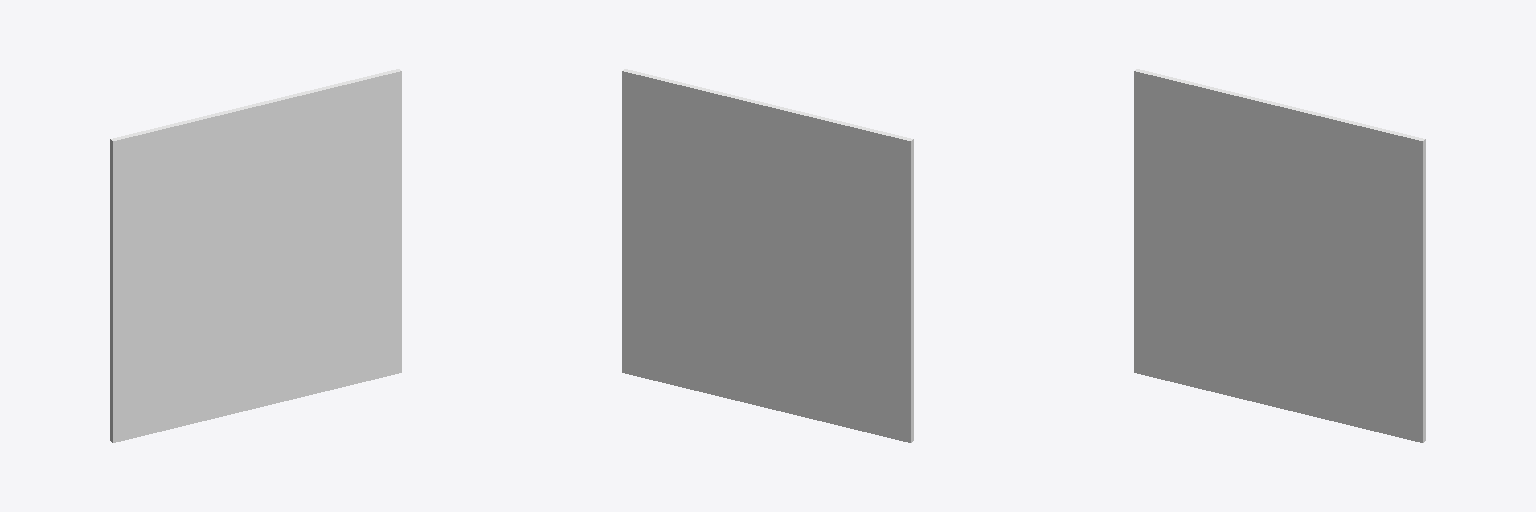
The model's file is balcony2-0-lod3.obj.
The picture shows the model from 3 angles: view 1: azimuth 30°, elevation 25°; view 2: azimuth 150°, elevation 25°; view 3: azimuth 330°, elevation 25°; orthographic projection.
Visible parts, largest first — view 1: lod3; view 2: lod3; view 3: lod3.
Part boxes in pixels (x1,y1,x2,y2): lod3: (110,69,401,442); lod3: (622,69,913,442); lod3: (1134,69,1425,442).
Bounding box in the file's own units: 16 × 16 × 0.3.